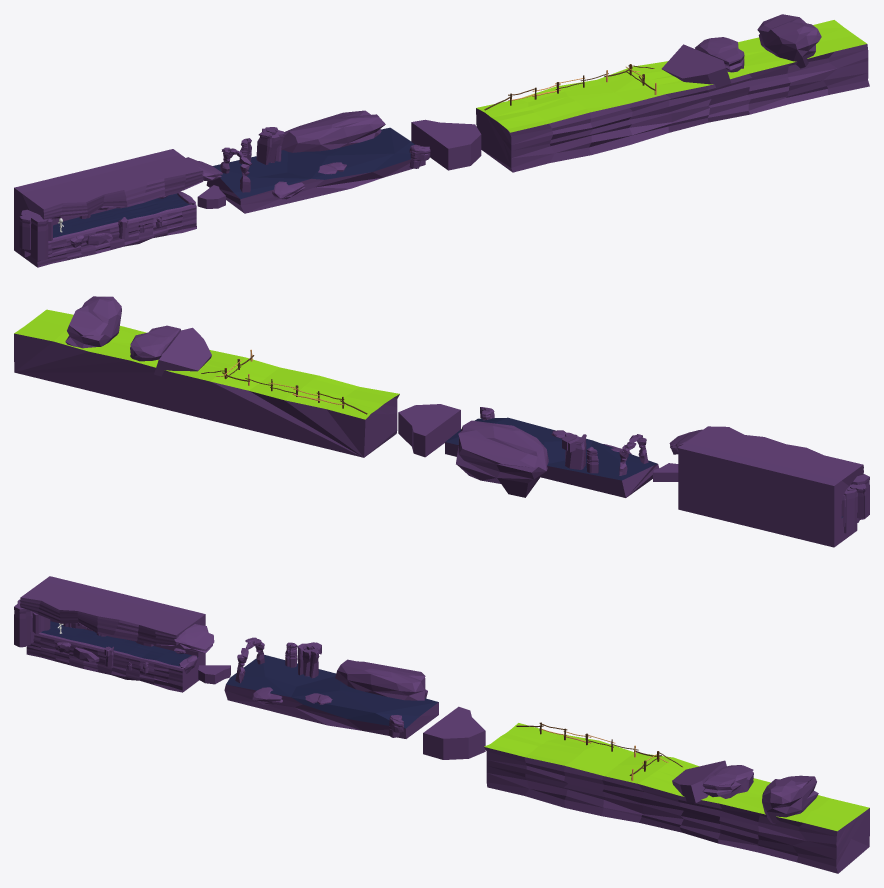
The model's file is CAVE_1.fbx.
3 views of the same model, one above another, from view 1: azimuth 30°, elevation 25°; view 2: azimuth 150°, elevation 25°; view 3: azimuth 330°, elevation 25° (orthographic). The views are drawn at different scales.
Parts seen in each view (by area): view 1: platform_2, cave, platform_1, rock_model.021, rock_model.023, rock_model.026, rock_model.024, rock_model.014, rock_model.025, rock_model.018, rock_model.000, fence_8 (+1 smaller); view 2: platform_2, cave, rock_model.021, platform_1, rock_model.023, rock_model.026, rock_model.024, rock_model.014, rock_model.025, rock_model.018, rock_model.000, fence_8; view 3: platform_2, cave, platform_1, rock_model.021, rock_model.023, rock_model.026, rock_model.025, rock_model.024, rock_model.014, rock_model.009, rock_model.018, rock_model.000 (+1 smaller).
Part boxes in pixels (left/top/right/bottom): platform_2: left=476, top=20, right=869, bottom=172; cave: left=14, top=149, right=203, bottom=267; platform_1: left=206, top=127, right=425, bottom=213; rock_model.021: left=281, top=110, right=385, bottom=152; rock_model.023: left=411, top=119, right=481, bottom=170; rock_model.026: left=757, top=14, right=821, bottom=69; rock_model.024: left=661, top=44, right=731, bottom=88; rock_model.014: left=19, top=209, right=52, bottom=260; rock_model.025: left=695, top=37, right=744, bottom=72; rock_model.018: left=256, top=127, right=284, bottom=164; rock_model.000: left=220, top=147, right=251, bottom=192; fence_8: left=484, top=64, right=654, bottom=110; platform_2: left=14, top=309, right=399, bottom=457; cave: left=678, top=426, right=863, bottom=547; rock_model.021: left=456, top=420, right=548, bottom=497; platform_1: left=445, top=417, right=658, bottom=497; rock_model.023: left=398, top=404, right=460, bottom=457; rock_model.026: left=65, top=296, right=121, bottom=348; rock_model.024: left=154, top=327, right=211, bottom=376; rock_model.014: left=841, top=474, right=869, bottom=533; rock_model.025: left=130, top=325, right=181, bottom=361; rock_model.018: left=562, top=434, right=586, bottom=469; rock_model.000: left=619, top=434, right=648, bottom=475; fence_8: left=201, top=368, right=367, bottom=414; platform_2: left=484, top=723, right=869, bottom=873; cave: left=20, top=576, right=205, bottom=692; platform_1: left=224, top=654, right=438, bottom=738; rock_model.021: left=335, top=659, right=427, bottom=700; rock_model.023: left=423, top=706, right=485, bottom=759; rock_model.026: left=762, top=775, right=818, bottom=824; rock_model.025: left=702, top=765, right=753, bottom=798; rock_model.024: left=672, top=760, right=726, bottom=802; rock_model.014: left=14, top=599, right=50, bottom=647; rock_model.009: left=174, top=624, right=214, bottom=653; rock_model.018: left=297, top=642, right=321, bottom=678; rock_model.000: left=235, top=637, right=264, bottom=683.
Bounding box in the file's own units: 14237 × 1388 × 1738.
